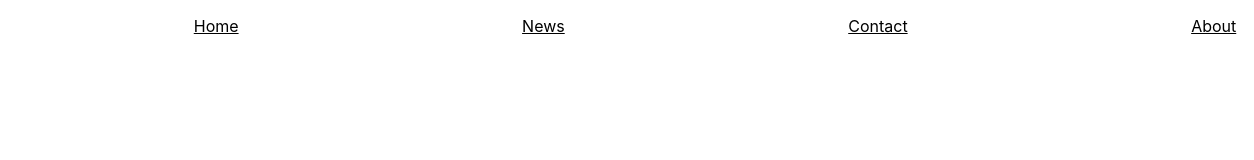
it: Navigation › should show a proper text on click
The width and height of the screenshot is (1254, 160).
Click the link "Home" at (216, 26), box [194,16,239,36]
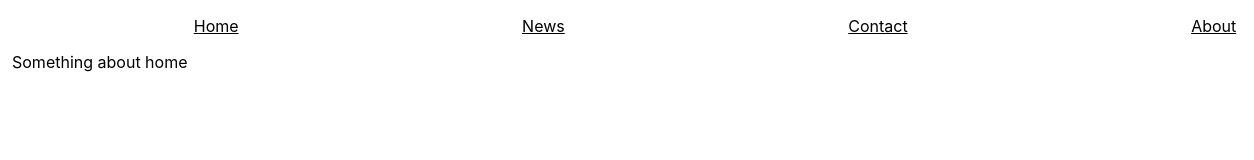
Now the text "Something about home" is shown, box [12,52,188,72]
Click the link "News" at (543, 26), box [522,16,565,36]
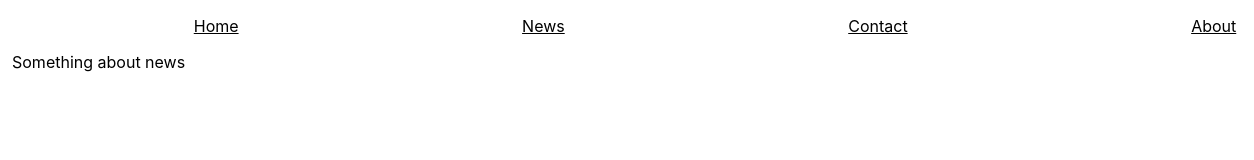
Now the text "Something about news" is shown, box [12,52,185,72]
Click the link "Contact" at (878, 26), box [848,16,908,36]
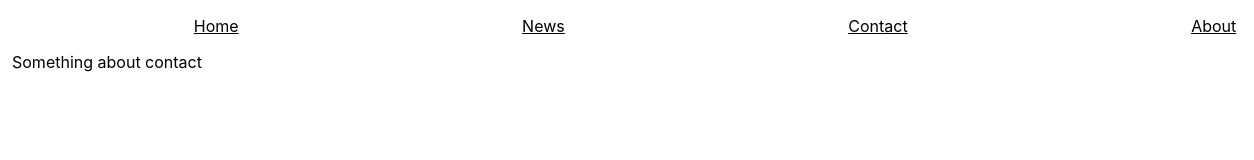
Now the text "Something about contact" is shown, box [12,52,202,72]
Click the link "About" at (1214, 26), box [1191,16,1236,36]
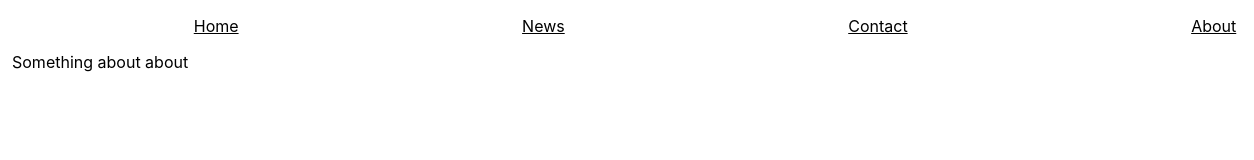
Now the text "Something about about" is shown, box [12,52,188,72]
